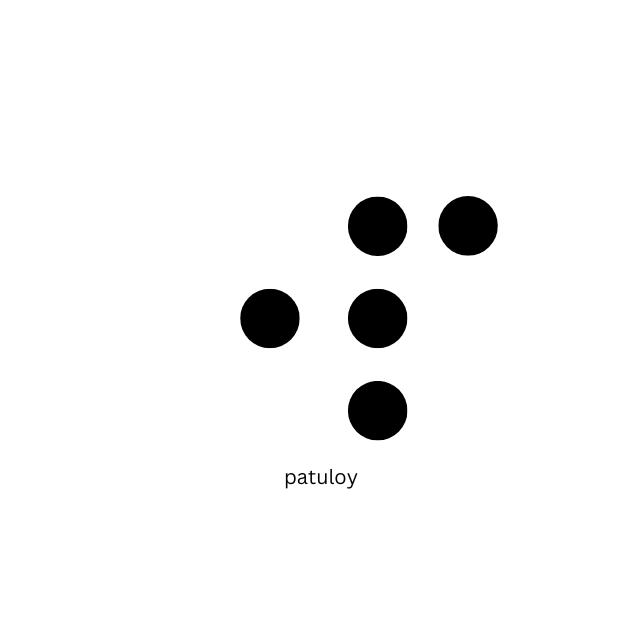dot_5: (148, 192, 301, 440)
two_cell_alphabet_patuloy: (346, 193, 499, 441)
